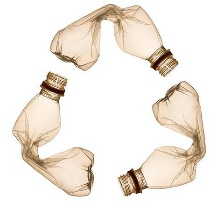bottle: (105, 77, 215, 208), (7, 64, 100, 200), (43, 1, 184, 81)
